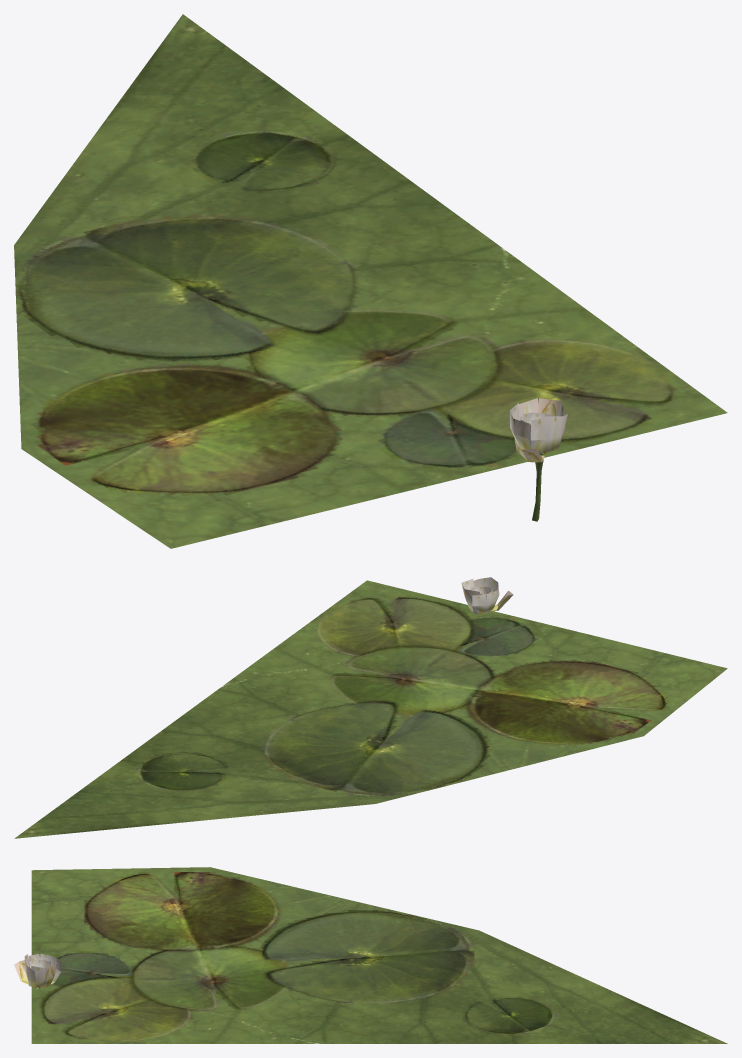
File: bg_anh_foliage_el_u21_sm_old.FBX
The picture shows the model from 3 angles, top to bottom: view 1: azimuth 30°, elevation 25°; view 2: azimuth 150°, elevation 25°; view 3: azimuth 270°, elevation 25°; orthographic projection. The views are drawn at different scales.
Parts seen in each view (by area): view 1: bg_anh_foliage_el_u21_sm_old; view 2: bg_anh_foliage_el_u21_sm_old; view 3: bg_anh_foliage_el_u21_sm_old.
Boxes of the visible parts, <box> form: bg_anh_foliage_el_u21_sm_old: <box>14,14,727,548</box>; bg_anh_foliage_el_u21_sm_old: <box>14,577,727,838</box>; bg_anh_foliage_el_u21_sm_old: <box>14,867,727,1043</box>.
Bounding box in the file's own units: 76.86 × 15.12 × 131.
